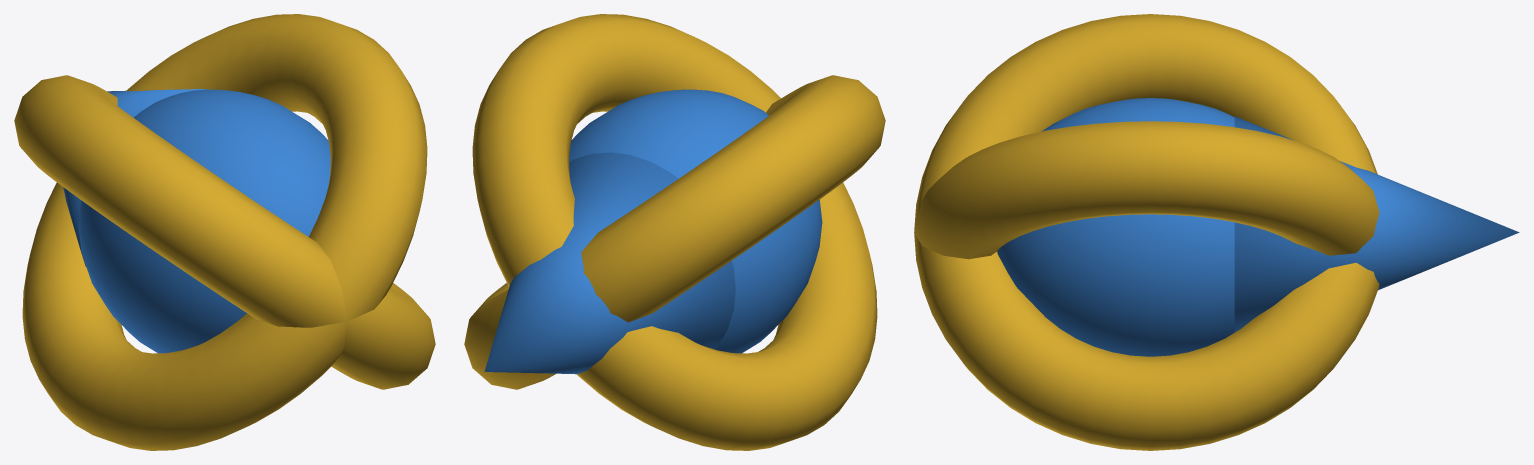
The model's file is Player.fbx.
3 renders of one model, left to right at view 1: azimuth 30°, elevation 25°; view 2: azimuth 150°, elevation 25°; view 3: azimuth 270°, elevation 25°, orthographic. The views are drawn at different scales.
Parts seen in each view (by area): view 1: Torus.004, Torus.000, Sphere, Cone; view 2: Torus.004, Torus.000, Cone, Sphere; view 3: Torus.000, Torus.004, Sphere, Cone.
Boxes of the visible parts, x1,y1,x2,y2 form: Torus.004: [22, 14, 427, 450]; Torus.000: [14, 75, 435, 389]; Sphere: [78, 89, 330, 353]; Cone: [63, 89, 209, 266]; Torus.004: [472, 14, 877, 450]; Torus.000: [464, 75, 885, 389]; Cone: [484, 152, 735, 374]; Sphere: [569, 89, 822, 353]; Torus.000: [914, 14, 1379, 450]; Torus.004: [914, 121, 1379, 259]; Sphere: [997, 98, 1234, 356]; Cone: [1234, 116, 1519, 332].
Bounding box in the file's own units: 284 × 267 × 450.
